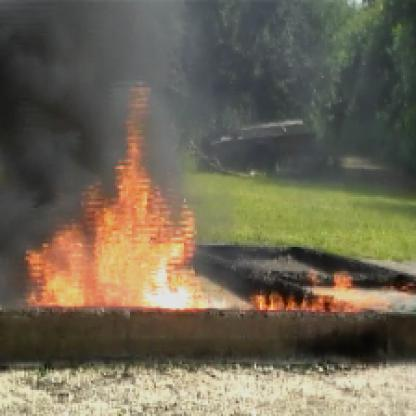Fire: (22, 76, 218, 316), (230, 264, 394, 316)
Smoke: (2, 2, 111, 189)
